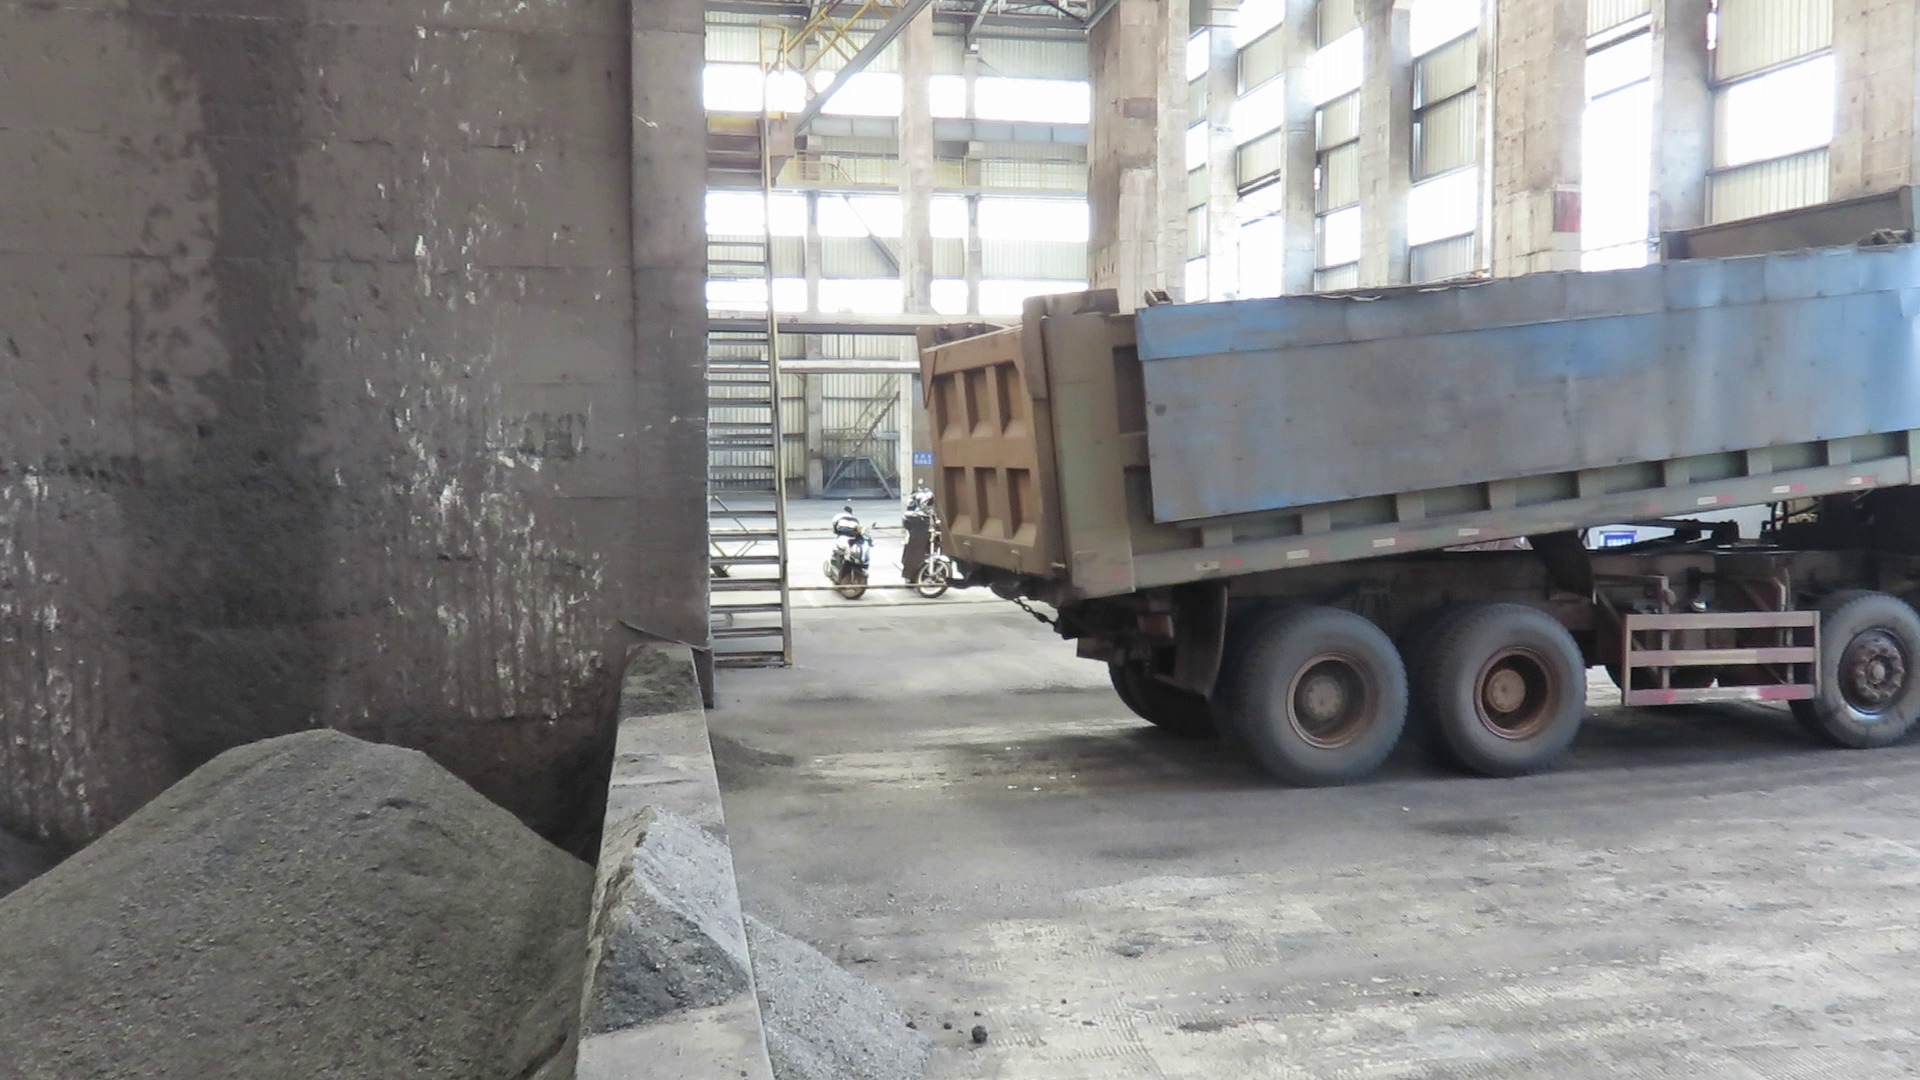truck: (902, 214, 1920, 793)
